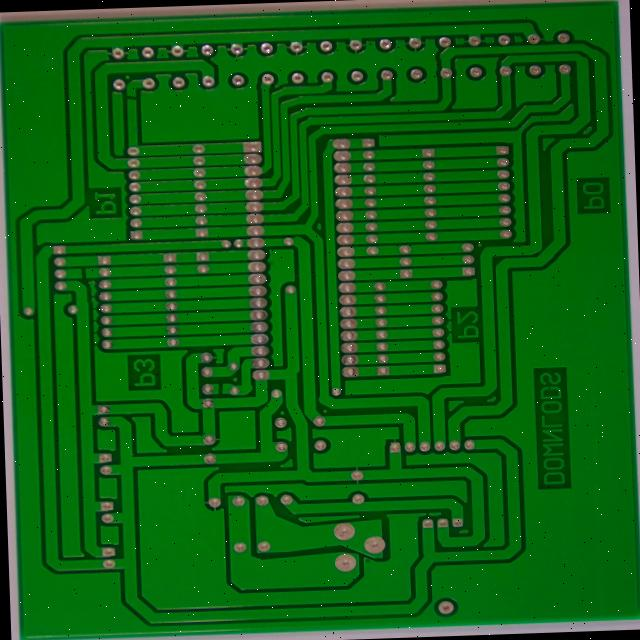open_circuit: (86, 283, 103, 302), (140, 94, 157, 110), (241, 408, 254, 424)
